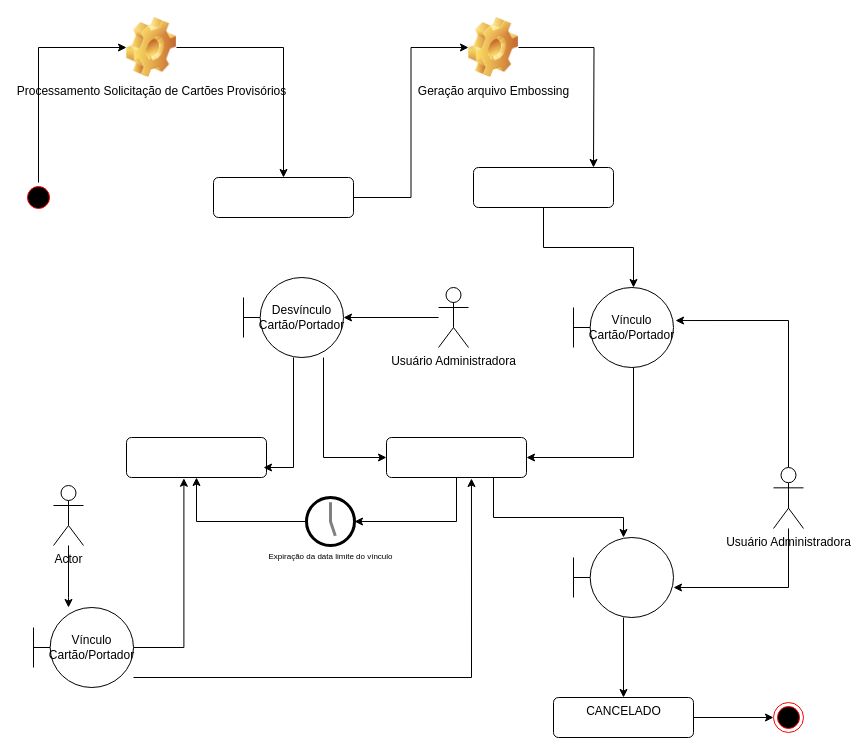
The diagram is 868 pixels wide and 755 high, and some of its shapes have lost their labels. Each missing label, with the box of its shape:
ATIVO: (386, 436, 526, 478)
Cancelamento Cartão: (572, 536, 674, 618)
CRIADO: (212, 176, 354, 218)
DESVINCULADO: (126, 436, 266, 478)
EMBOSSING: (472, 166, 614, 208)
